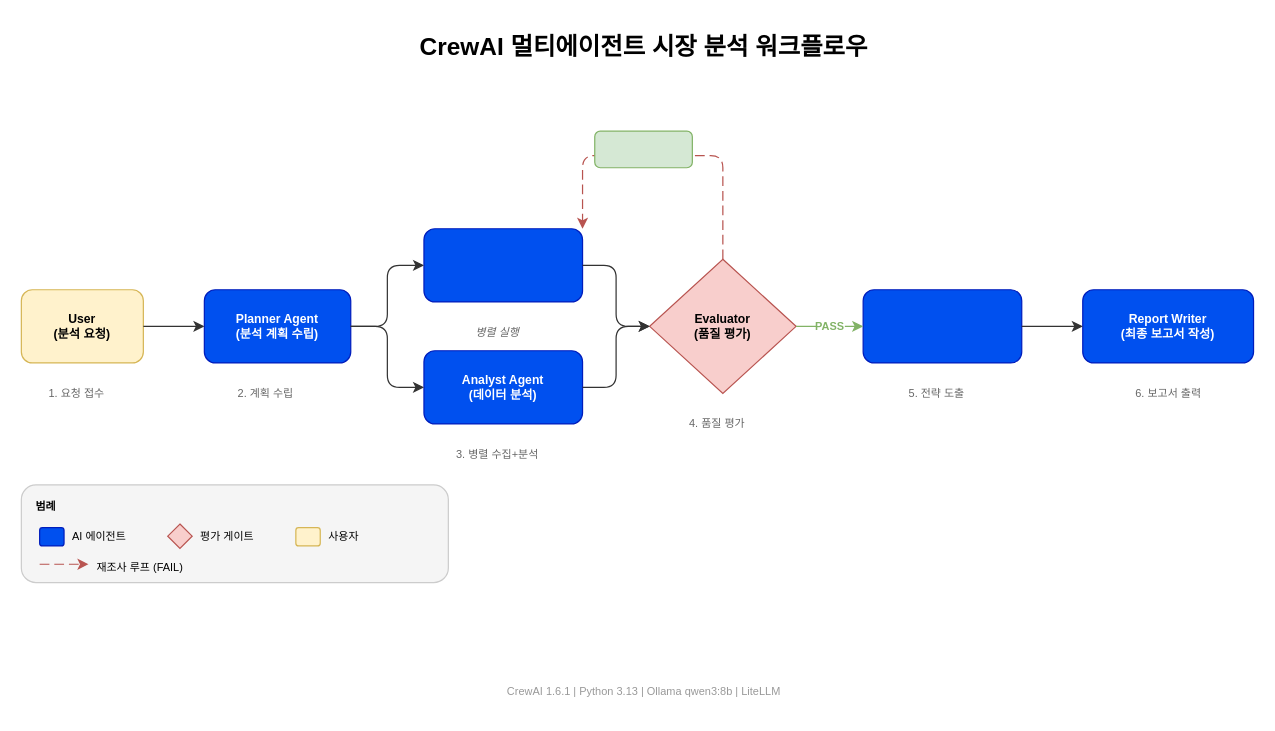
The diagram is 1275 pixels wide and 731 high, and some of its shapes have lost their labels. Each missing label, with the centre of its shape:
"Researcher Agent (시장 데이터 수집)" belongs at (503,265).
"Strategist Agent (전략 도출)" belongs at (942,326).
"재조사 루프" belongs at (643,149).
